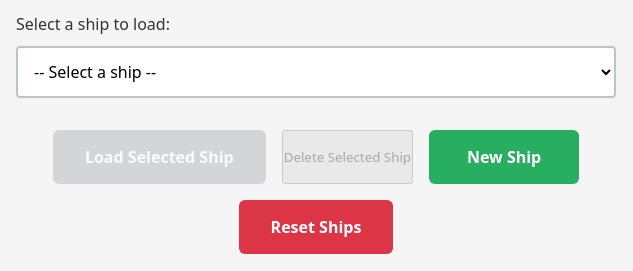
Scenario: SelectShipPanel › shows an error if resetStandardShips rejects
Expected: the dropdown is shown, [16,46,616,98]
Click the button "Reset Ships".
click(316, 227)  # box [239,200,393,254]
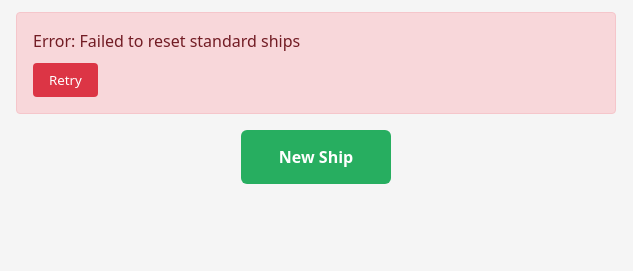
Expected: the text "Error: Failed to reset standard ships" is shown, [33,30,300,52]
